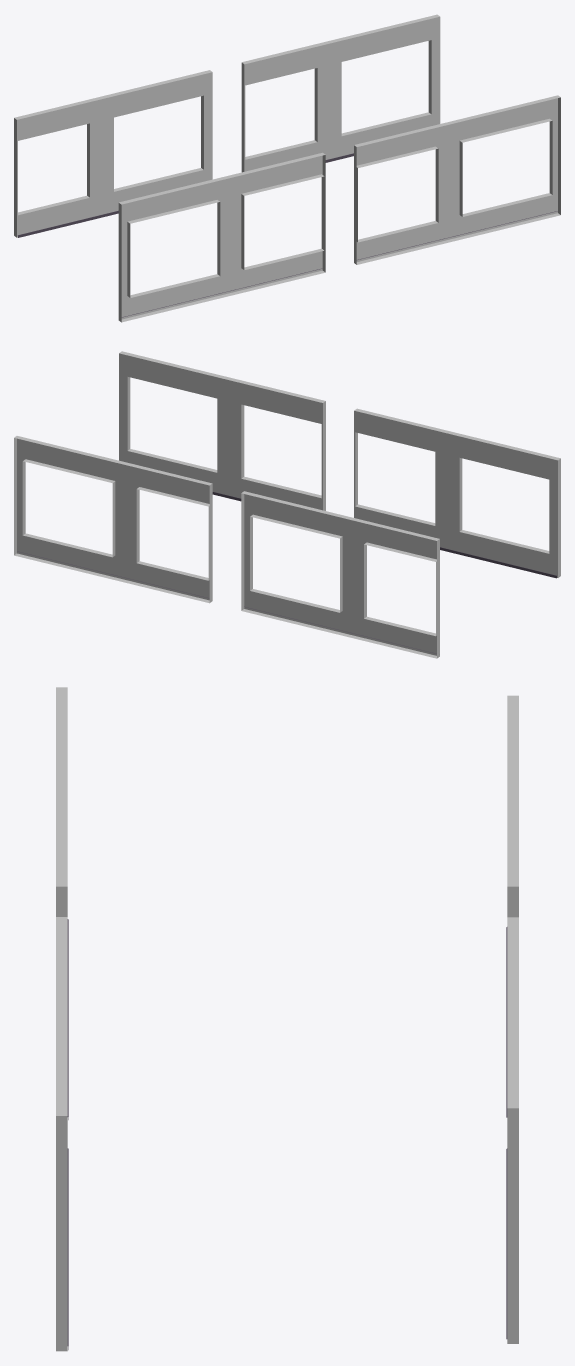
The model's file is ConcreteWall.FBX.
3 renders of one model, top to bottom at view 1: azimuth 30°, elevation 25°; view 2: azimuth 150°, elevation 25°; view 3: azimuth 270°, elevation 25°, orthographic. The views are drawn at different scales.
Visible parts, largest first — view 1: ConcreteWall (×4); view 2: ConcreteWall (×4); view 3: ConcreteWall (×4).
Boxes of the visible parts, x1,y1,x2,y2 form: ConcreteWall (×4): (14,14,560,322); ConcreteWall (×4): (14,351,560,658); ConcreteWall (×4): (56,687,518,1351).
Bounding box in the file's own units: 52.96 × 13.61 × 24.18.
